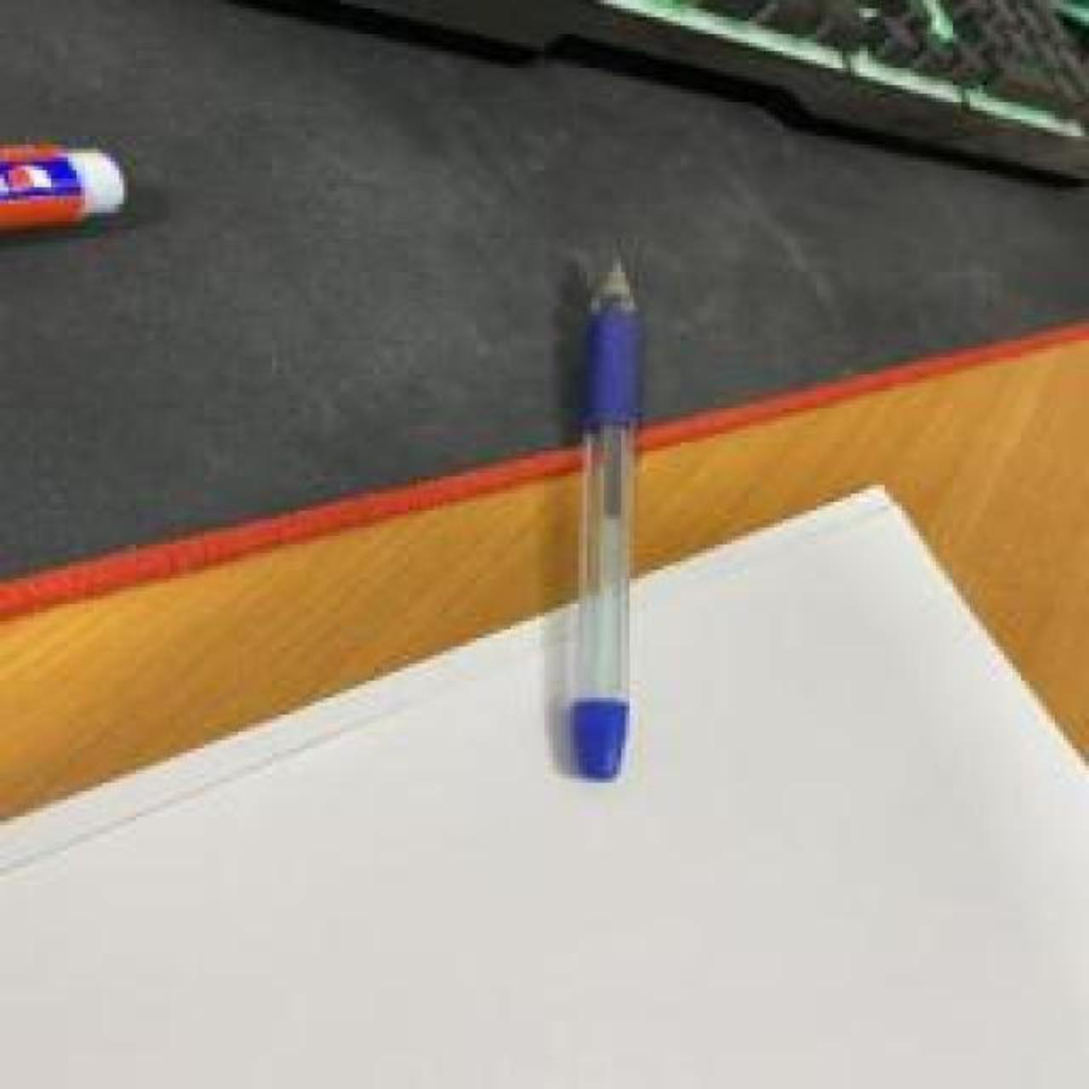pen: (570, 255, 638, 783)
